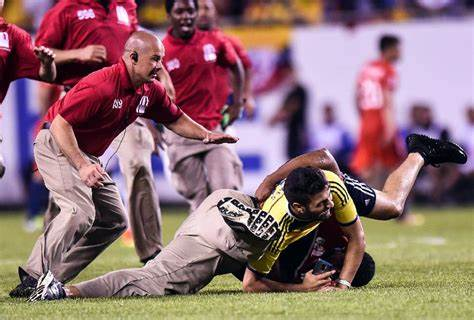fall: (36, 182, 293, 300)
